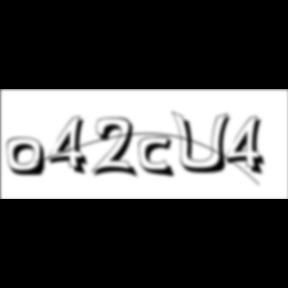2: (92, 117, 142, 181)
4: (225, 115, 272, 179), (48, 115, 94, 179)
U: (172, 110, 236, 176)
c: (140, 136, 180, 180)
o: (7, 137, 49, 179)
